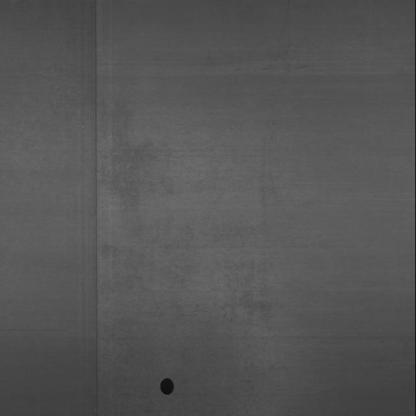punching_hole: (150, 378, 183, 404)
welding_line: (83, 3, 116, 416)
